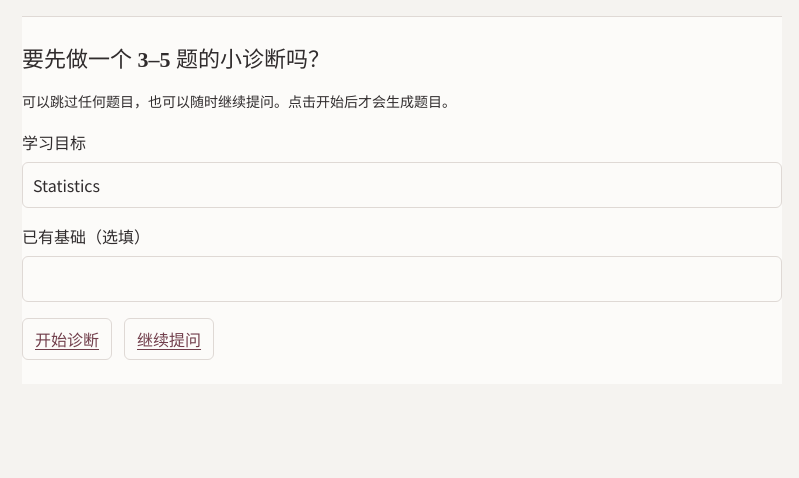
Test case: waits for explicit consent and retries a failed start with the same key
The width and height of the screenshot is (799, 478).
What coordinates should you click on to do the following:
click the button "开始诊断"
I would click on:
 (67, 339)
Its box is [22,318,112,360].
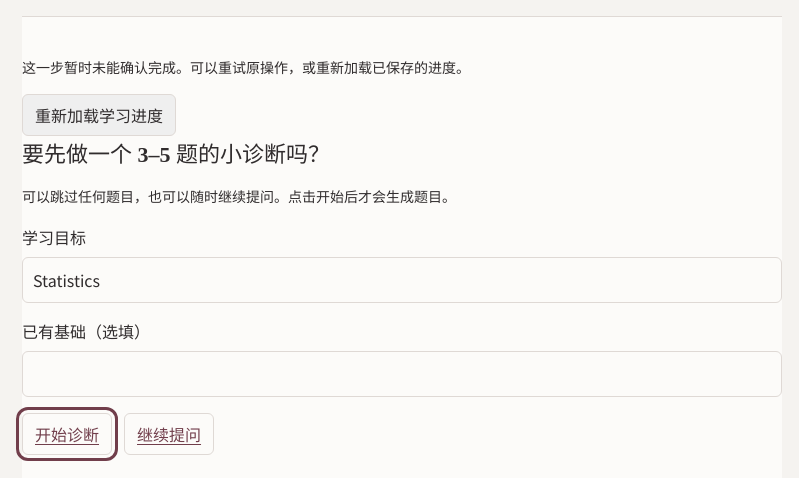
Expected: the message "这一步暂时未能确认完成。可以重试原操作，或重新加载已保存的进度。 重新加载学习进度" is shown, [22,57,470,136]
What coordinates should you click on to do the following:
click the button "开始诊断"
I would click on:
 (67, 434)
Its box is [22,413,112,455].
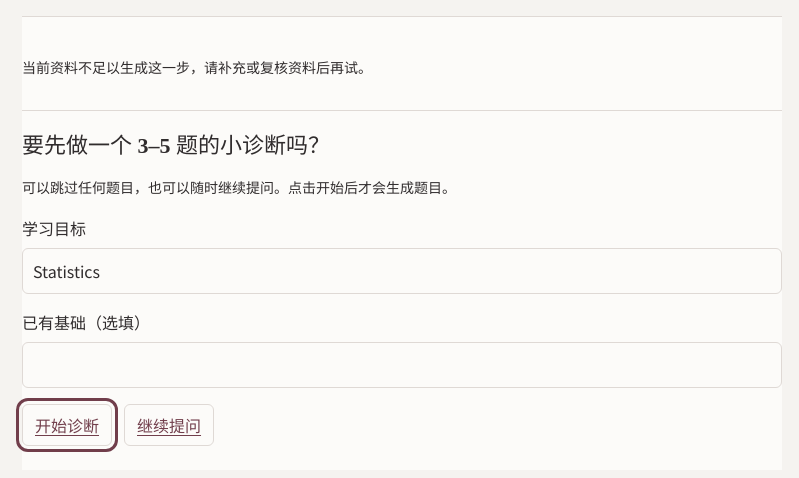
Expected: the text "当前资料不足以生成这一步，请补充或复核资料后再试。" is shown, [22,57,372,77]
